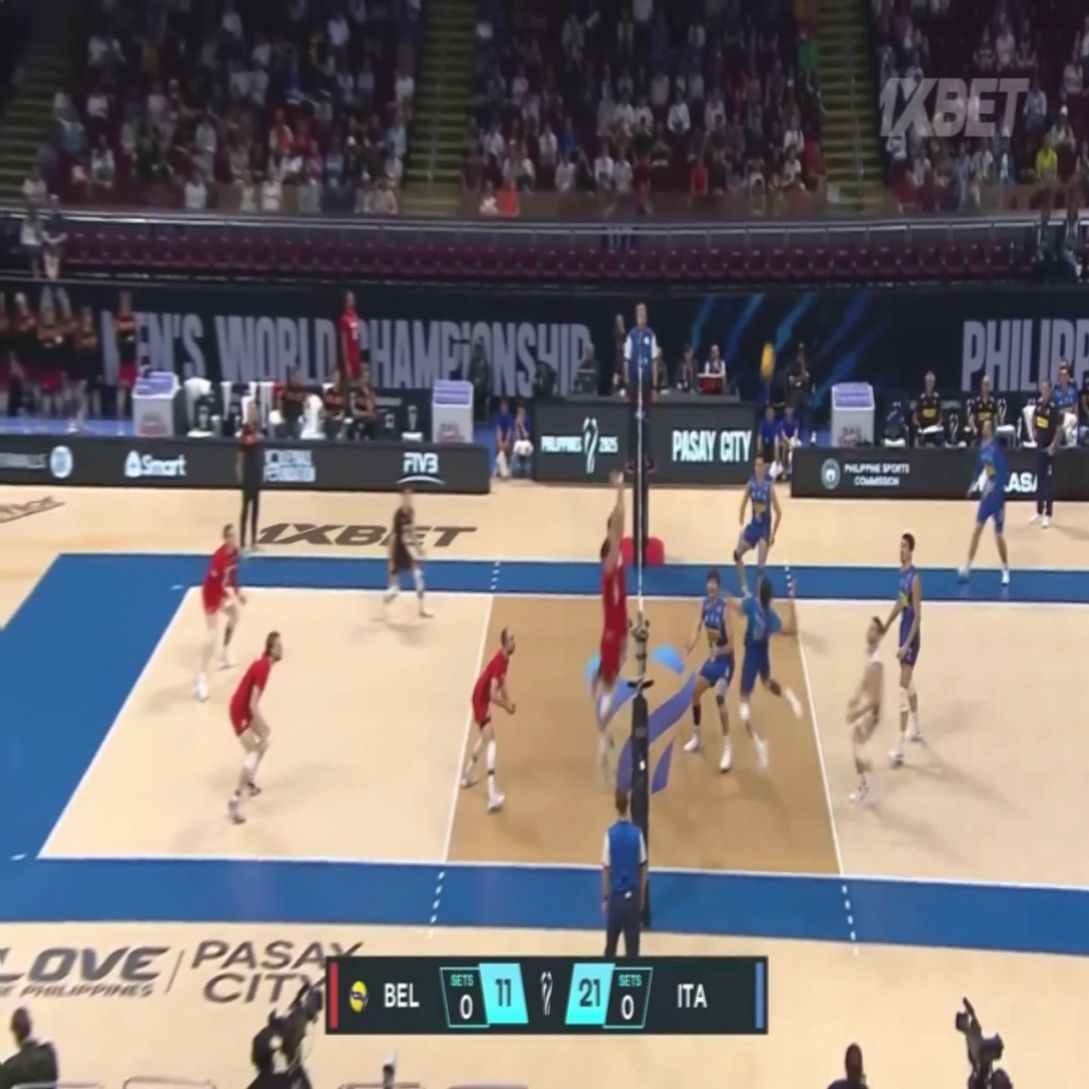ball: (758, 341, 774, 380)
